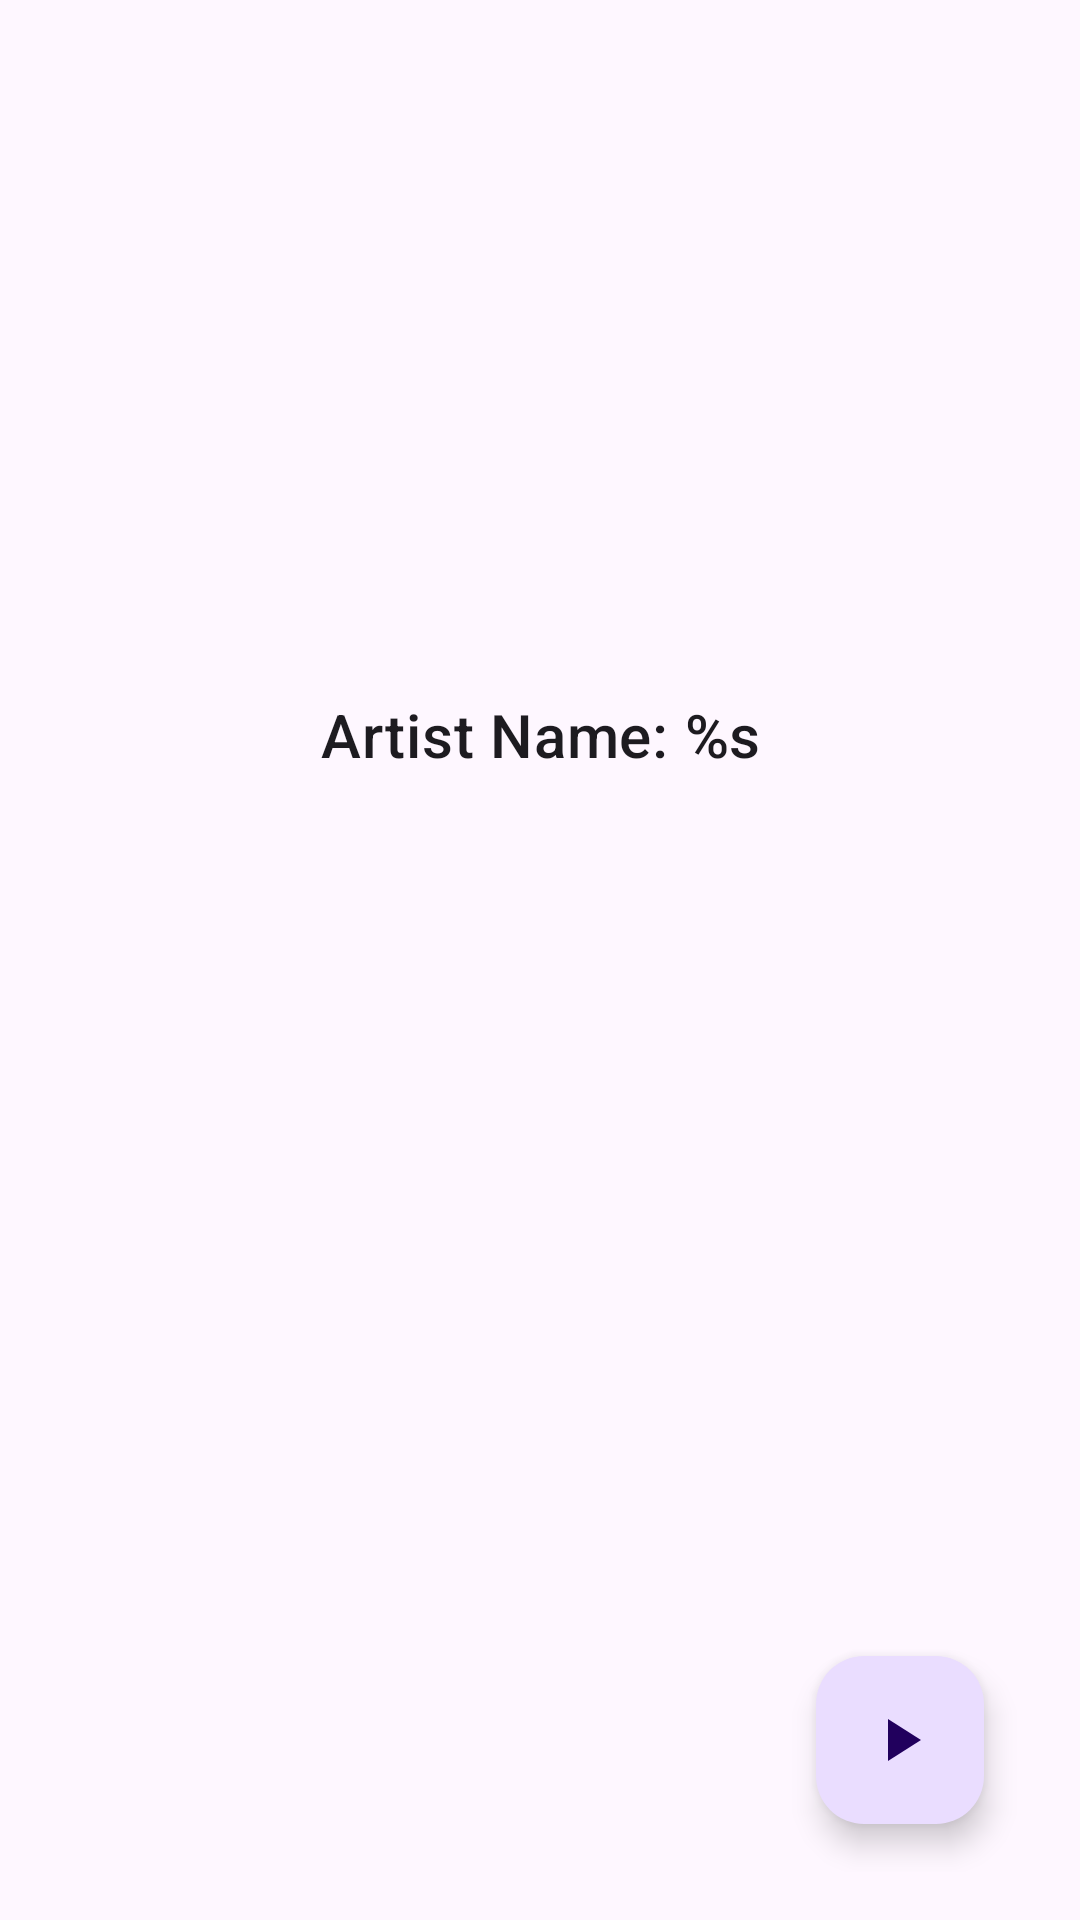

Where icons sit on this 1080px x 1920px app screen, as (x1, y1, x2, y2):
Play Song: (816, 1656, 984, 1824)
